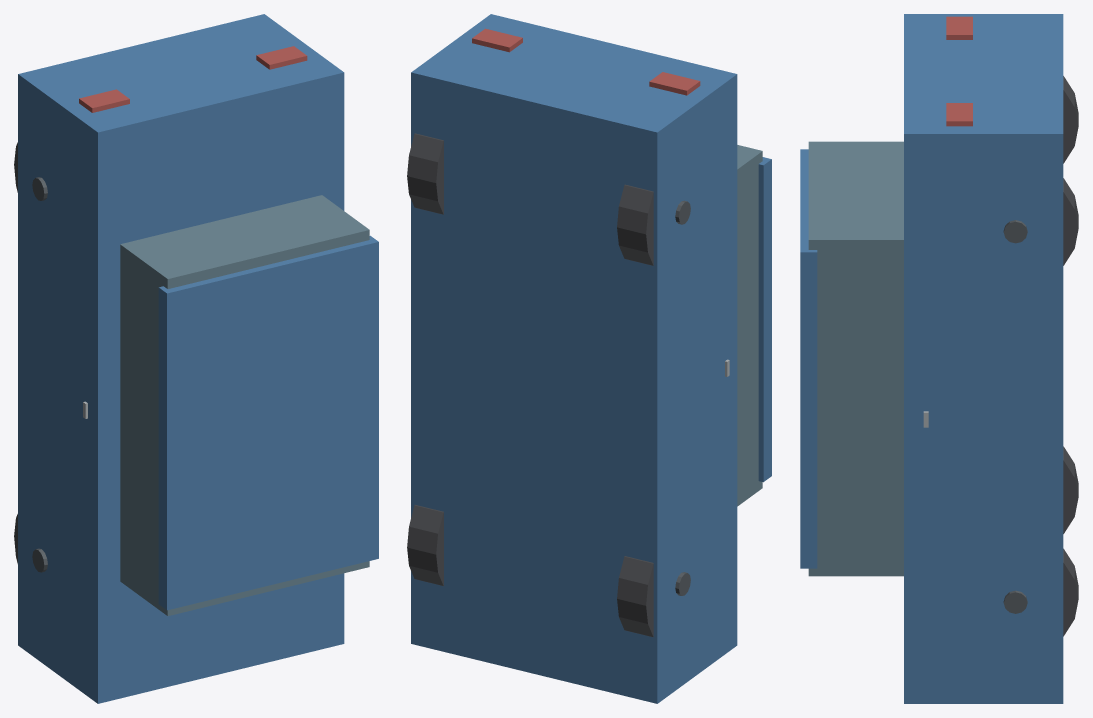
Rendered from suv_crossover.glb.
3 views of the same model, side by side, from view 1: azimuth 30°, elevation 25°; view 2: azimuth 150°, elevation 25°; view 3: azimuth 270°, elevation 25° (orthographic).
Parts seen in each view (by area): view 1: 0000_Car_body, 0003_Roof, 0002_Cabin_glass, 0009_Tail_lamp, 0007_Tail_lamp; view 2: 0000_Car_body, 0002_Cabin_glass, 0003_Roof, 0012_Wheel_tire, 0018_Wheel_tire, 0015_Wheel_tire, 0021_Wheel_tire, 0007_Tail_lamp, 0009_Tail_lamp; view 3: 0000_Car_body, 0002_Cabin_glass, 0003_Roof, 0015_Wheel_tire, 0012_Wheel_tire, 0021_Wheel_tire, 0018_Wheel_tire, 0007_Tail_lamp, 0009_Tail_lamp, 0017_Wheel_hub, 0023_Wheel_hub.
Boxes of the visible parts, x1=… form: 0000_Car_body: x1=18, y1=14, x2=344, y2=703; 0003_Roof: x1=158, y1=235, x2=378, y2=610; 0002_Cabin_glass: x1=120, y1=195, x2=369, y2=615; 0009_Tail_lamp: x1=256, y1=46, x2=307, y2=69; 0007_Tail_lamp: x1=79, y1=89, x2=129, y2=112; 0000_Car_body: x1=411, y1=14, x2=737, y2=703; 0002_Cabin_glass: x1=737, y1=145, x2=762, y2=506; 0003_Roof: x1=758, y1=157, x2=771, y2=482; 0012_Wheel_tire: x1=617, y1=556, x2=653, y2=637; 0018_Wheel_tire: x1=617, y1=184, x2=653, y2=265; 0015_Wheel_tire: x1=407, y1=505, x2=443, y2=586; 0021_Wheel_tire: x1=407, y1=133, x2=443, y2=214; 0007_Tail_lamp: x1=649, y1=72, x2=700, y2=95; 0009_Tail_lamp: x1=472, y1=28, x2=522, y2=52; 0000_Car_body: x1=904, y1=14, x2=1063, y2=703; 0002_Cabin_glass: x1=808, y1=141, x2=903, y2=576; 0003_Roof: x1=800, y1=149, x2=817, y2=568; 0015_Wheel_tire: x1=1063, y1=548, x2=1078, y2=636; 0012_Wheel_tire: x1=1063, y1=446, x2=1078, y2=533; 0021_Wheel_tire: x1=1063, y1=178, x2=1078, y2=265; 0018_Wheel_tire: x1=1063, y1=76, x2=1078, y2=163; 0007_Tail_lamp: x1=946, y1=16, x2=972, y2=39; 0009_Tail_lamp: x1=946, y1=103, x2=972, y2=126; 0017_Wheel_hub: x1=1003, y1=590, x2=1027, y2=613; 0023_Wheel_hub: x1=1003, y1=220, x2=1027, y2=243.
Size of the model in its own units: 2.09 by 4.6 by 1.99.
